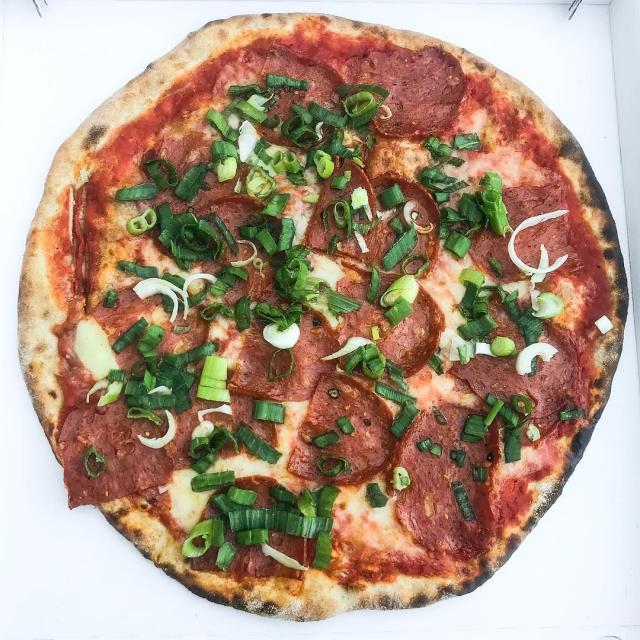pepperoni: (397, 399, 502, 560), (468, 303, 593, 415), (332, 263, 450, 377), (248, 45, 360, 164), (52, 392, 180, 490), (285, 369, 398, 478), (348, 40, 468, 142), (178, 192, 289, 300), (232, 289, 336, 404), (191, 471, 310, 571), (86, 284, 204, 373), (465, 181, 575, 276), (303, 160, 388, 267)
pizza: (16, 12, 629, 625)
